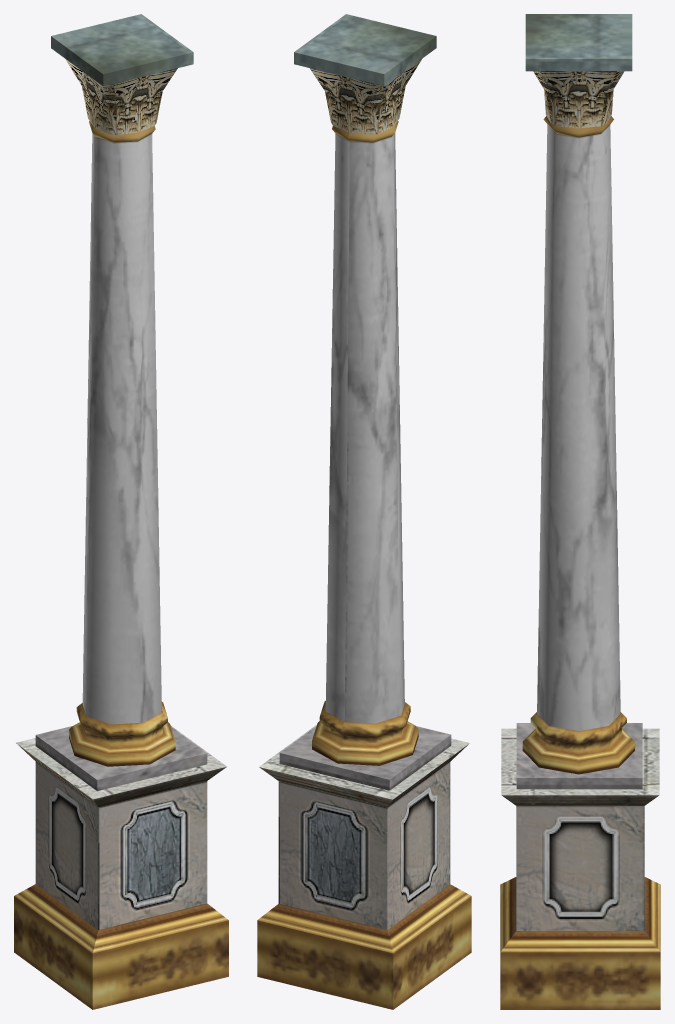
Rendered from column_roman_b.dae.
3 renders of one model, left to right at view 1: azimuth 30°, elevation 25°; view 2: azimuth 150°, elevation 25°; view 3: azimuth 270°, elevation 25°, orthographic. The views are drawn at different scales.
Visible parts, largest first — view 1: rostrum.001; view 2: rostrum.001; view 3: rostrum.001.
Part boxes in pixels (left/top/right/bottom): rostrum.001: left=14, top=14, right=228, bottom=1009; rostrum.001: left=257, top=14, right=471, bottom=1009; rostrum.001: left=500, top=14, right=660, bottom=1009.
Size of the model in its own units: 2.41 by 2.41 by 15.59.
